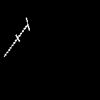double_crochet: (4, 18, 29, 56)
